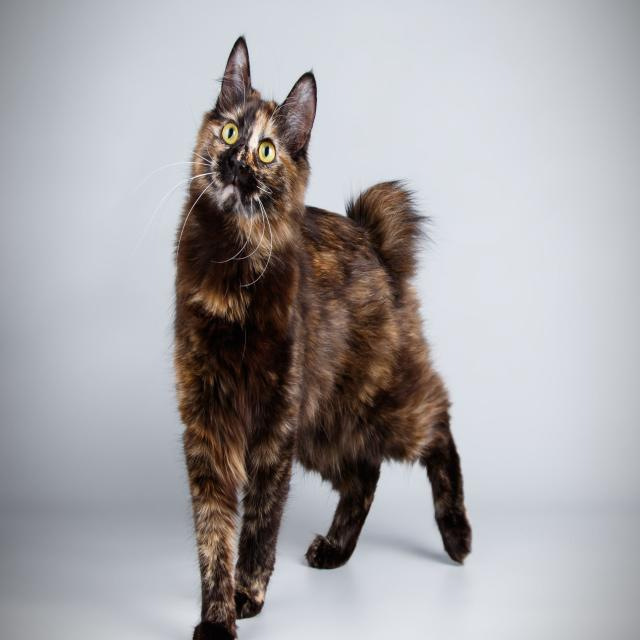American Bobtail: (169, 30, 476, 640)
